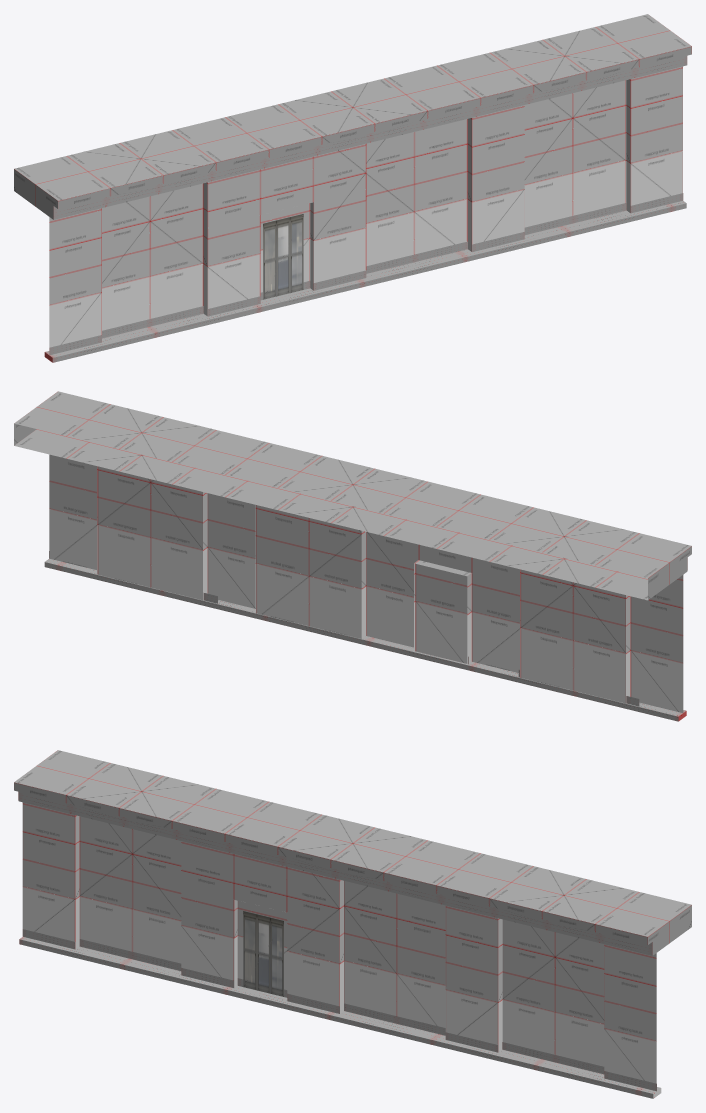
The picture shows the model from 3 angles, top to bottom: view 1: azimuth 30°, elevation 25°; view 2: azimuth 150°, elevation 25°; view 3: azimuth 330°, elevation 25°; orthographic projection.
Parts seen in each view (by area): view 1: S_00_base_3x_f; view 2: S_00_base_3x_f; view 3: S_00_base_3x_f.
Boxes of the visible parts, <box> form: S_00_base_3x_f: <box>14,14,691,362</box>; S_00_base_3x_f: <box>14,391,691,721</box>; S_00_base_3x_f: <box>14,750,691,1098</box>.
Size of the model in its own units: 60.02 by 7.23 by 15.
